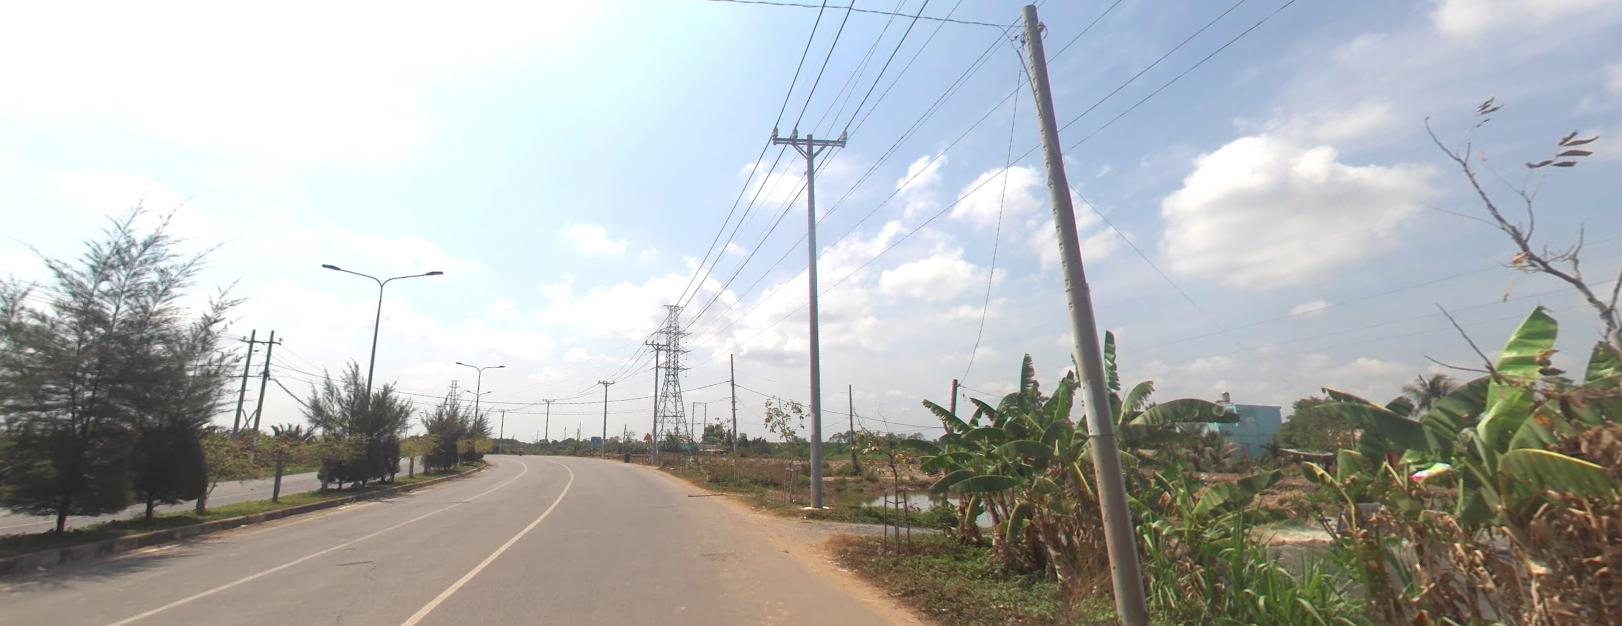Nguy hiem: (643, 431, 651, 438)
